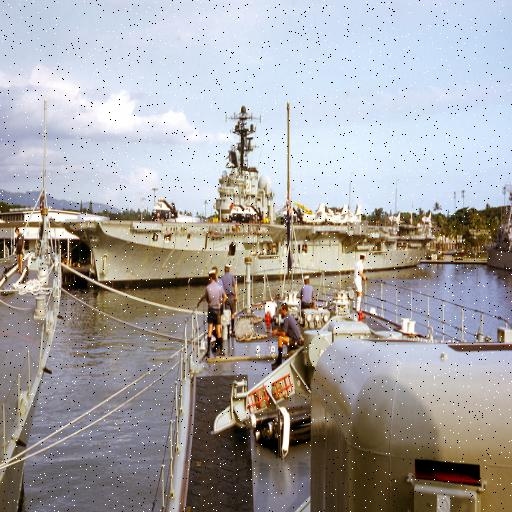Portanaves: (61, 85, 437, 292)
